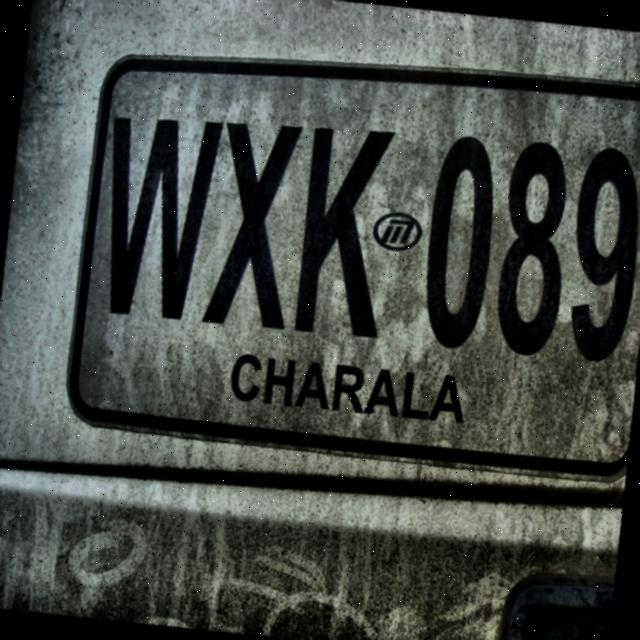0: (409, 128, 508, 356)
8: (488, 137, 581, 366)
9: (559, 144, 640, 379)
K: (289, 123, 403, 344)
W: (91, 110, 222, 330)
X: (199, 119, 308, 334)
